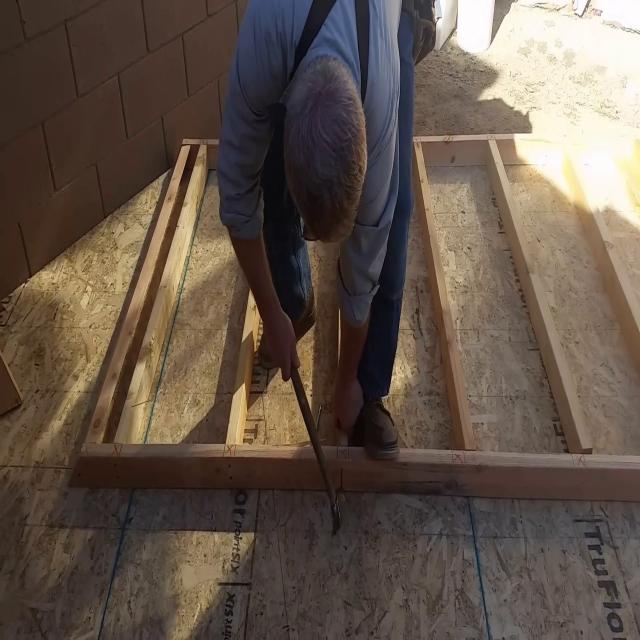hammer: (291, 363, 347, 538)
